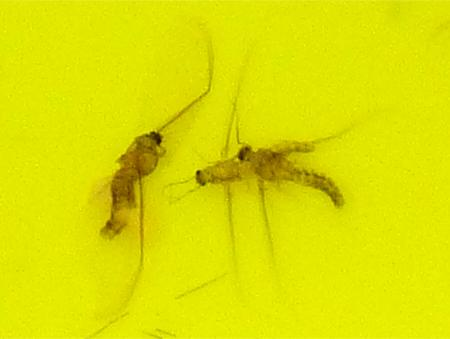Ephemeroptera: (100, 100, 199, 239), (232, 138, 350, 209), (188, 135, 321, 196)
